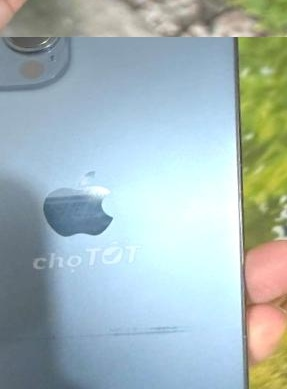scratch: (0, 285, 224, 389)
